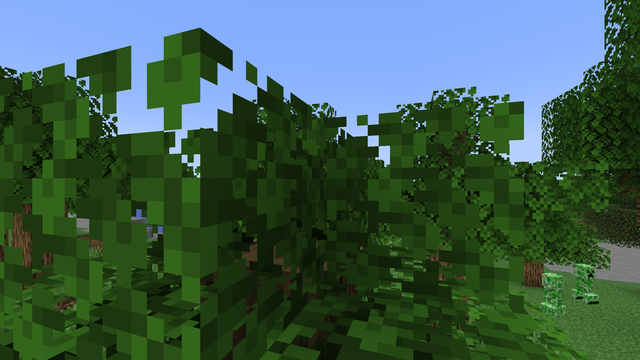creepers: (540, 270, 565, 318), (572, 261, 596, 304)
